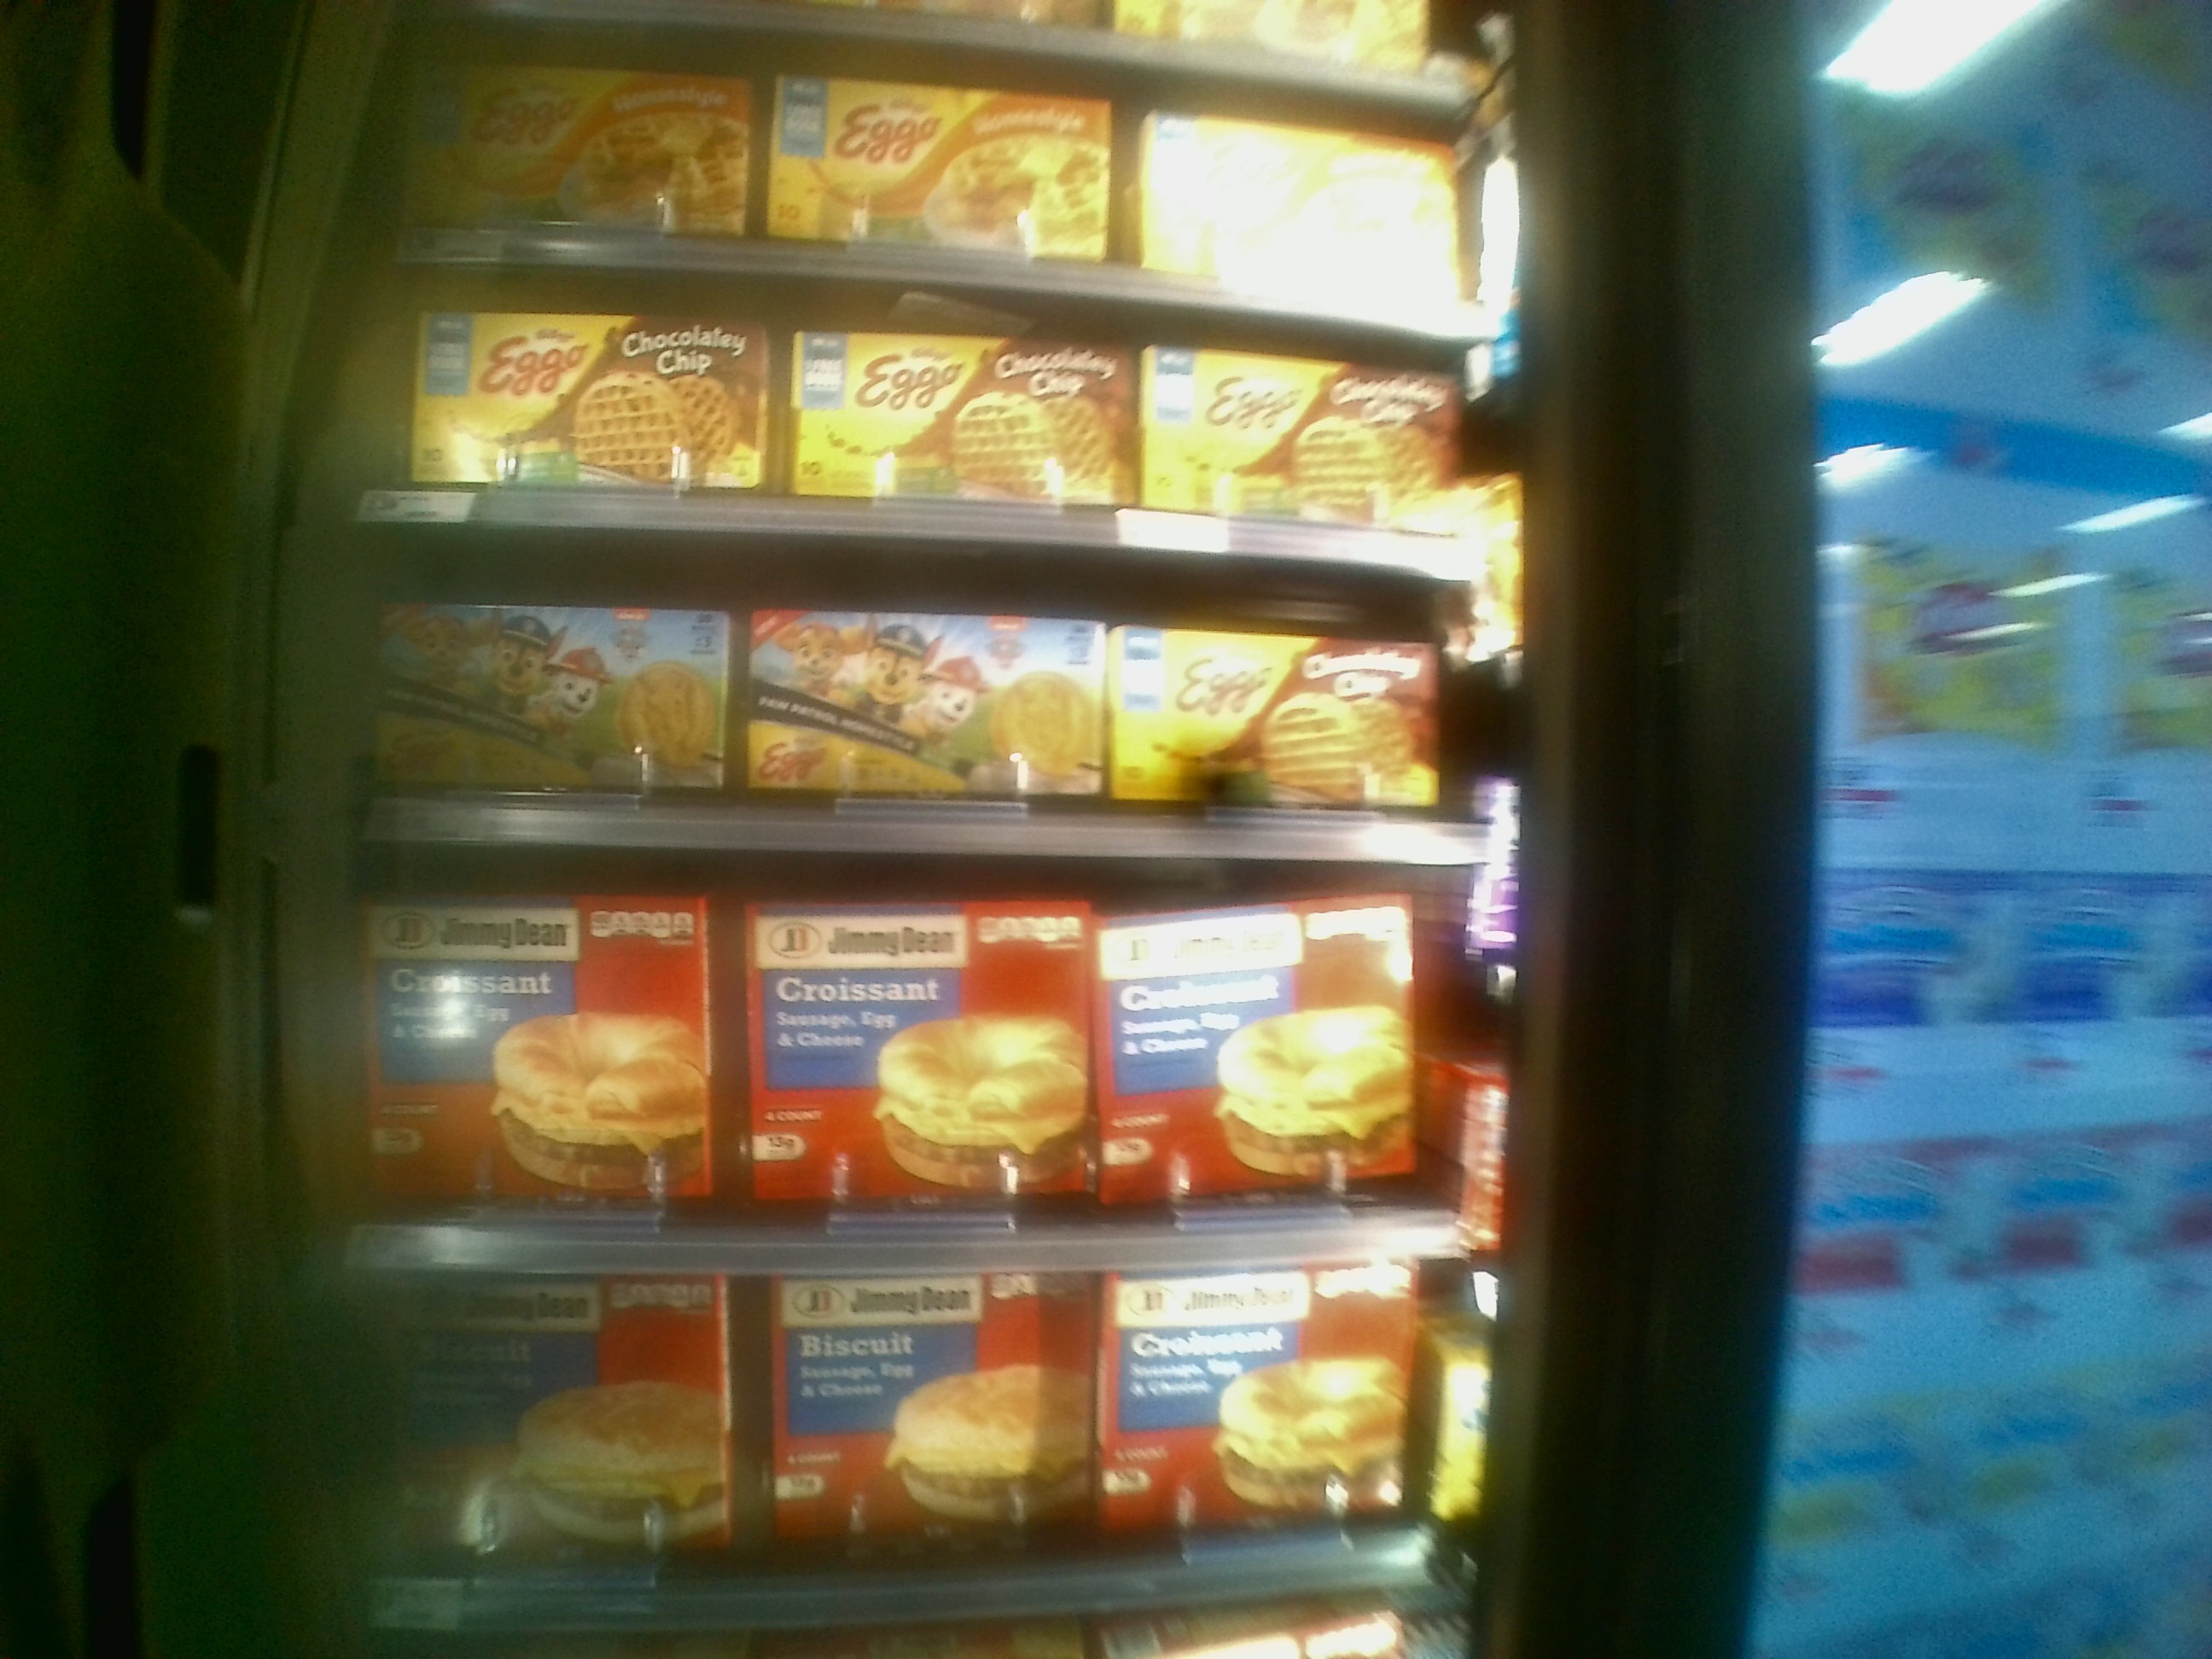shelf: (354, 842, 1529, 1281), (343, 533, 1514, 863), (348, 247, 1505, 572)
